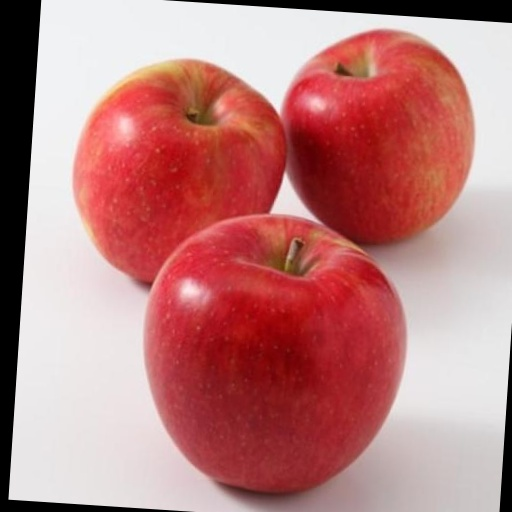fruit: (145, 215, 406, 492), (73, 60, 285, 281), (283, 30, 474, 242)
